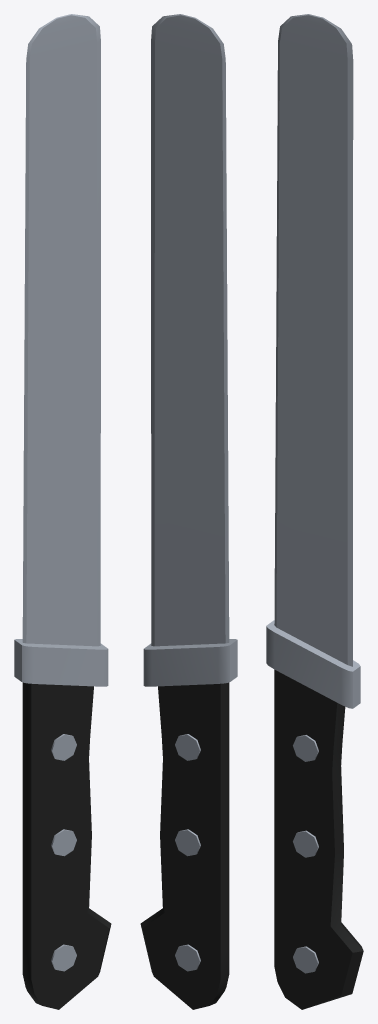
The model's file is Salmon Knife.glb.
The picture shows the model from 3 angles, left to right: view 1: azimuth 30°, elevation 25°; view 2: azimuth 150°, elevation 25°; view 3: azimuth 330°, elevation 25°; orthographic projection.
Visible parts, largest first — view 1: knife_salmon_knife_Cube.013; view 2: knife_salmon_knife_Cube.013; view 3: knife_salmon_knife_Cube.013.
Part boxes in pixels (x1,y1,x2,y2): knife_salmon_knife_Cube.013: (14,14,111,1009); knife_salmon_knife_Cube.013: (140,14,237,1009); knife_salmon_knife_Cube.013: (266,14,363,1009).
Size of the model in its own units: 0.8903 by 9.02 by 0.1843.
Materials: 1 (1 with a texture image).
